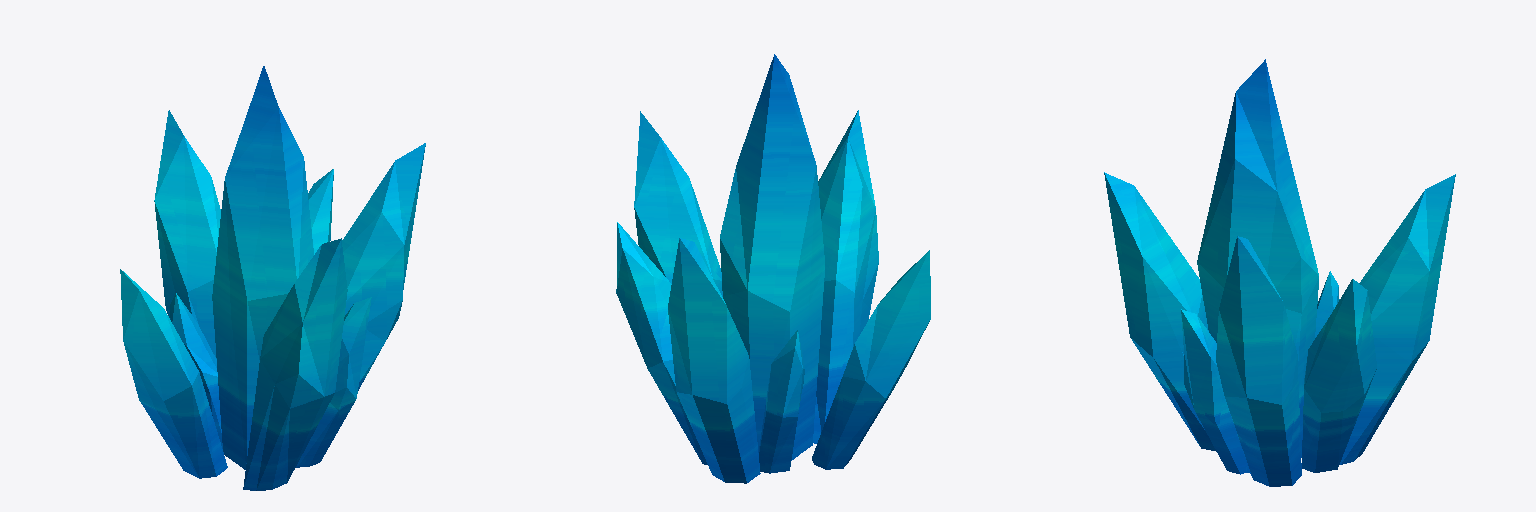
3 renders of one model, left to right at view 1: azimuth 30°, elevation 25°; view 2: azimuth 150°, elevation 25°; view 3: azimuth 270°, elevation 25°, orthographic.
Parts seen in each view (by area): view 1: obj1; view 2: obj1; view 3: obj1.
Boxes of the visible parts, <box> form: obj1: <box>120,66,425,490</box>; obj1: <box>616,54,930,483</box>; obj1: <box>1104,59,1455,486</box>.
Size of the model in its own units: 5.78 by 7.31 by 5.92.
1 materials, 1 textured.